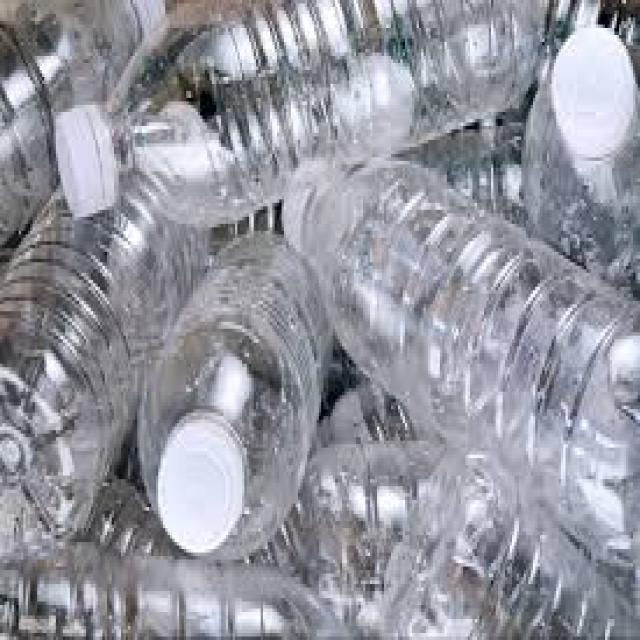Plastico: (263, 108, 640, 602), (38, 0, 640, 271), (87, 217, 353, 603), (357, 432, 640, 640)
